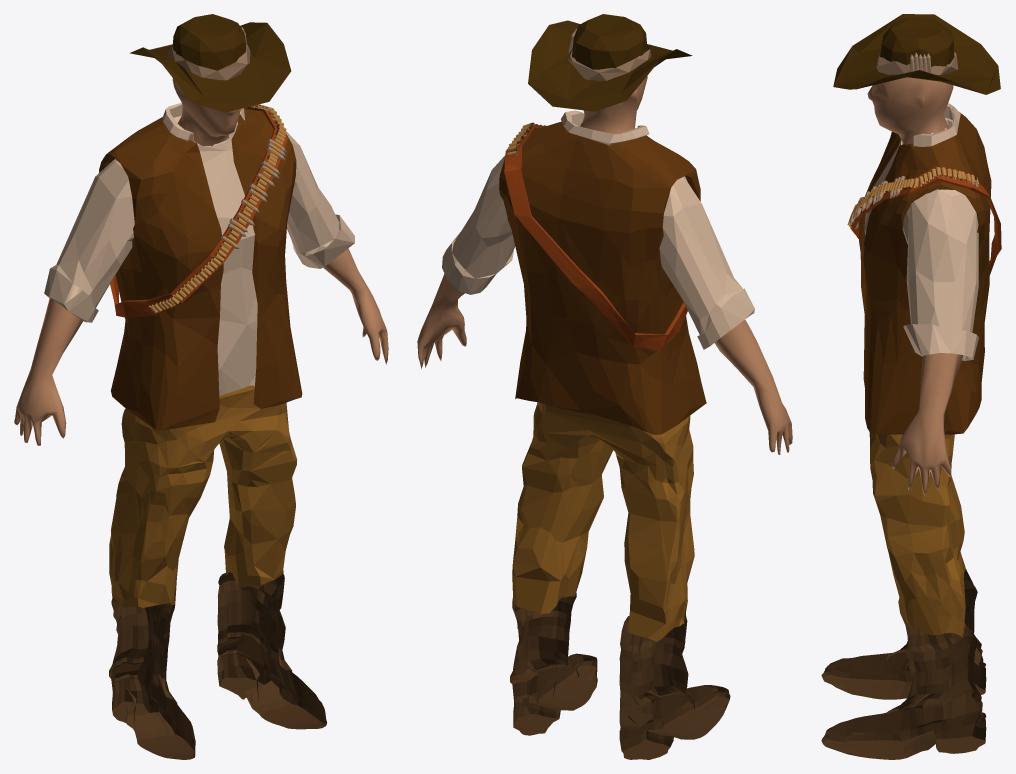
File: LowPolyCowboy.fbx
3 views of the same model, side by side, from view 1: azimuth 30°, elevation 25°; view 2: azimuth 150°, elevation 25°; view 3: azimuth 270°, elevation 25° (orthographic).
Parts seen in each view (by area): view 1: Cube_Cube.001, Cube.002_Cube.000, Cube_Cube.002, Cube.001_Cube.005, Cube.003_Cube; view 2: Cube_Cube.001, Cube.002_Cube.000, Cube_Cube.002, Cube.001_Cube.005, Cube.003_Cube; view 3: Cube_Cube.001, Cube_Cube.002, Cube.002_Cube.000, Cube.001_Cube.005, Cube.003_Cube.
Part boxes in pixels (bbox=[...]): Cube_Cube.001: bbox=[109, 385, 326, 759]; Cube.002_Cube.000: bbox=[99, 108, 302, 430]; Cube_Cube.002: bbox=[14, 78, 388, 445]; Cube.001_Cube.005: bbox=[129, 14, 291, 112]; Cube.003_Cube: bbox=[110, 104, 287, 317]; Cube_Cube.001: bbox=[510, 402, 730, 759]; Cube.002_Cube.000: bbox=[499, 121, 706, 434]; Cube_Cube.002: bbox=[417, 76, 792, 454]; Cube.001_Cube.005: bbox=[528, 14, 692, 111]; Cube.003_Cube: bbox=[504, 122, 687, 350]; Cube_Cube.001: bbox=[821, 432, 986, 759]; Cube_Cube.002: bbox=[864, 77, 978, 495]; Cube.002_Cube.000: bbox=[858, 112, 991, 434]; Cube.001_Cube.005: bbox=[833, 14, 1000, 94]; Cube.003_Cube: bbox=[847, 166, 1001, 275].
Size of the model in its own units: 234 by 430 by 101.
